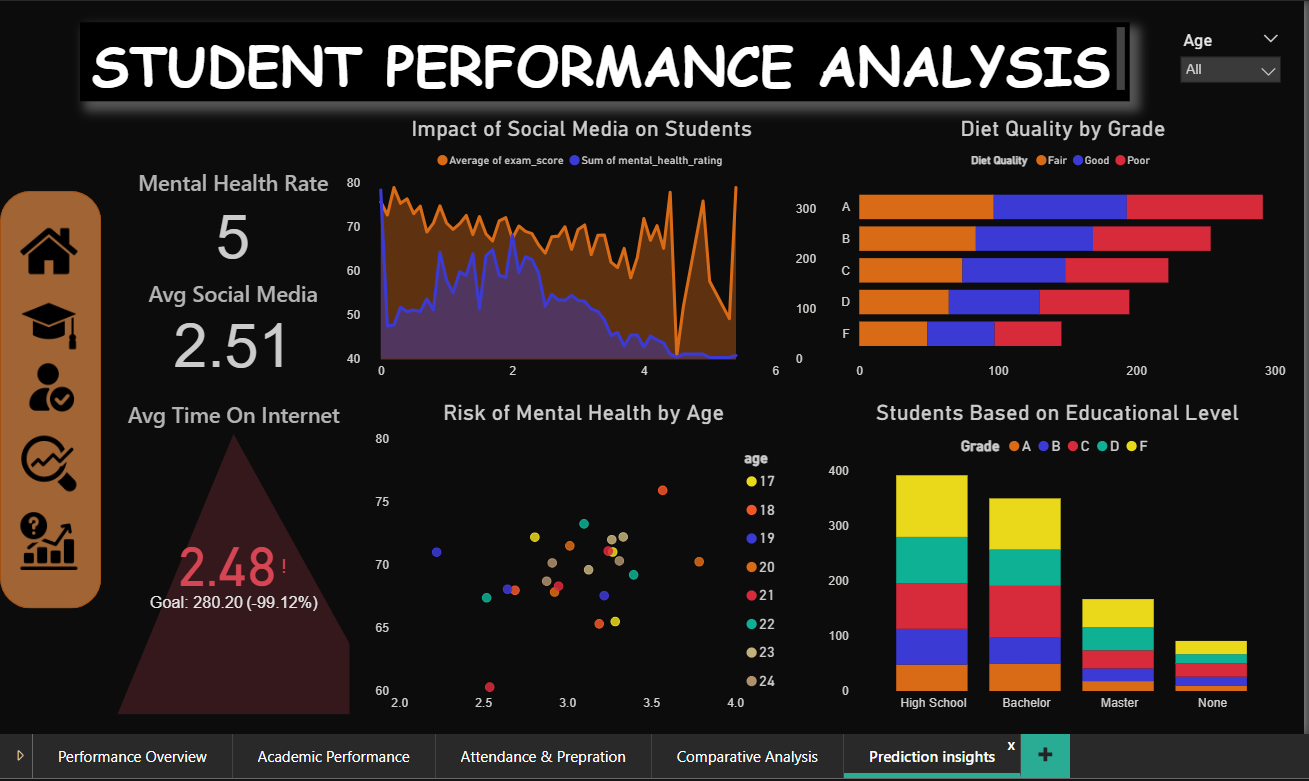

What the dashboard file says about the page in this screenshot:
{"tool":"powerbi","page":{"name":"Prediction insights","canvas":[1280,720],"ordinal":4},"visuals":[{"type":"shape","box":[0,186.5,99.4,409.8],"z":0},{"type":"textbox","box":[78.5,20.9,1030.7,77.3],"z":1000},{"type":"image","box":[0,212.3,95.7,66.3],"z":2000},{"type":"image","box":[0,285.9,95.7,66.3],"z":3000},{"type":"image","box":[3.7,346,95.7,66.3],"z":4000},{"type":"image","box":[0,420.9,95.7,66.3],"z":5000},{"type":"image","box":[0,496.9,95.7,66.3],"z":6000},{"type":"actionButton","box":[0,212.3,99.4,66.3],"z":7000},{"type":"actionButton","box":[0,278.5,99.4,73.6],"z":8000},{"type":"actionButton","box":[0,346,99.4,66.3],"z":9000},{"type":"actionButton","box":[0,420.9,99.4,66.3],"z":10000},{"type":"actionButton","box":[0,496.9,99.4,66.3],"z":11000},{"type":"scatterChart","title":"Risk of Mental Health by Age","fields":{"Y":["Avg(student_habits_performance.exam_score)"],"X":["Avg(student_habits_performance.exercise_frequency)"],"Series":["student_habits_performance.age"],"Category":["student_habits_performance.diet_quality"]},"box":[363.2,391.4,419.6,314.1],"z":11001},{"type":"columnChart","title":"Students Based on Educational Level","fields":{"Category":["student_habits_performance.parental_education_level"],"Y":["CountNonNull(student_habits_performance.student_id)"],"Series":["student_habits_performance.Grade"]},"box":[807.4,391.4,461.4,314.1],"z":11002},{"type":"barChart","title":"Diet Quality by Grade","fields":{"Category":["student_habits_performance.Grade"],"Series":["student_habits_performance.diet_quality"],"Y":["Avg(student_habits_performance.exam_score)"]},"box":[819.6,112.9,447.9,266.3],"z":11003},{"type":"areaChart","title":"Impact of Social Media on Students","fields":{"Category":["student_habits_performance.netflix_hours"],"Y":["Avg(student_habits_performance.exam_score)"],"Y2":["Sum(student_habits_performance.mental_health_rating)"]},"box":[335,112.9,472.4,266.3],"z":11004},{"type":"kpi","title":"Avg Time On Internet","fields":{"Indicator":["Avg(student_habits_performance.social_media_hours)"],"TrendLine":["student_habits_performance.internet_quality"],"Goal":["Sum(student_habits_performance.netflix_hours)"]},"box":[110.4,391.4,238,314.1],"z":11005},{"type":"card","title":"Avg Social Media","fields":{"Values":["Avg(student_habits_performance.social_media_hours)"]},"box":[127.6,272.4,202.5,93.3],"z":11006},{"type":"card","title":"Mental Health Rate","fields":{"Values":["Median(student_habits_performance.mental_health_rating)"]},"box":[127.6,163.2,202.5,98.2],"z":11007},{"type":"slicer","fields":{"Values":["student_habits_performance.age"]},"box":[1148.5,23.3,119,74.8],"z":11008}]}

Visuals, with their boxes on the page's 1280x720 design canvas (x1, y1, x2, y2). These are canvas units, not pixel positions in the 1309x781 screenshot, which may show the page scaled, cropped or inside an application window:
shape: detection(0, 186, 99, 596)
textbox: detection(78, 21, 1109, 98)
image: detection(0, 212, 96, 279)
image: detection(0, 286, 96, 352)
image: detection(4, 346, 99, 412)
image: detection(0, 421, 96, 487)
image: detection(0, 497, 96, 563)
actionButton: detection(0, 212, 99, 279)
actionButton: detection(0, 278, 99, 352)
actionButton: detection(0, 346, 99, 412)
actionButton: detection(0, 421, 99, 487)
actionButton: detection(0, 497, 99, 563)
"Risk of Mental Health by Age" scatterChart: detection(363, 391, 783, 706)
"Students Based on Educational Level" columnChart: detection(807, 391, 1269, 706)
"Diet Quality by Grade" barChart: detection(820, 113, 1268, 379)
"Impact of Social Media on Students" areaChart: detection(335, 113, 807, 379)
"Avg Time On Internet" kpi: detection(110, 391, 348, 706)
"Avg Social Media" card: detection(128, 272, 330, 366)
"Mental Health Rate" card: detection(128, 163, 330, 261)
slicer - student_habits_performance.age: detection(1148, 23, 1268, 98)
